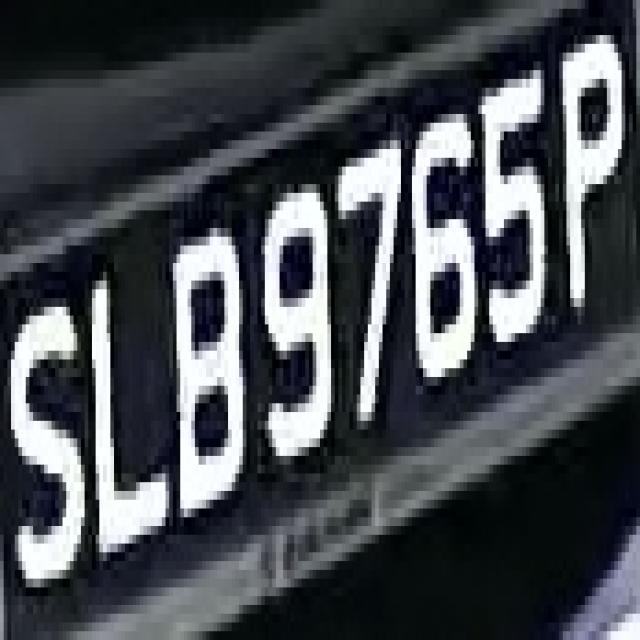5: (464, 53, 556, 360)
6: (408, 88, 486, 412)
7: (335, 123, 412, 430)
9: (254, 149, 342, 491)
B: (162, 211, 246, 561)
L: (81, 245, 173, 570)
P: (552, 44, 636, 324)
S: (0, 4, 1, 9)
